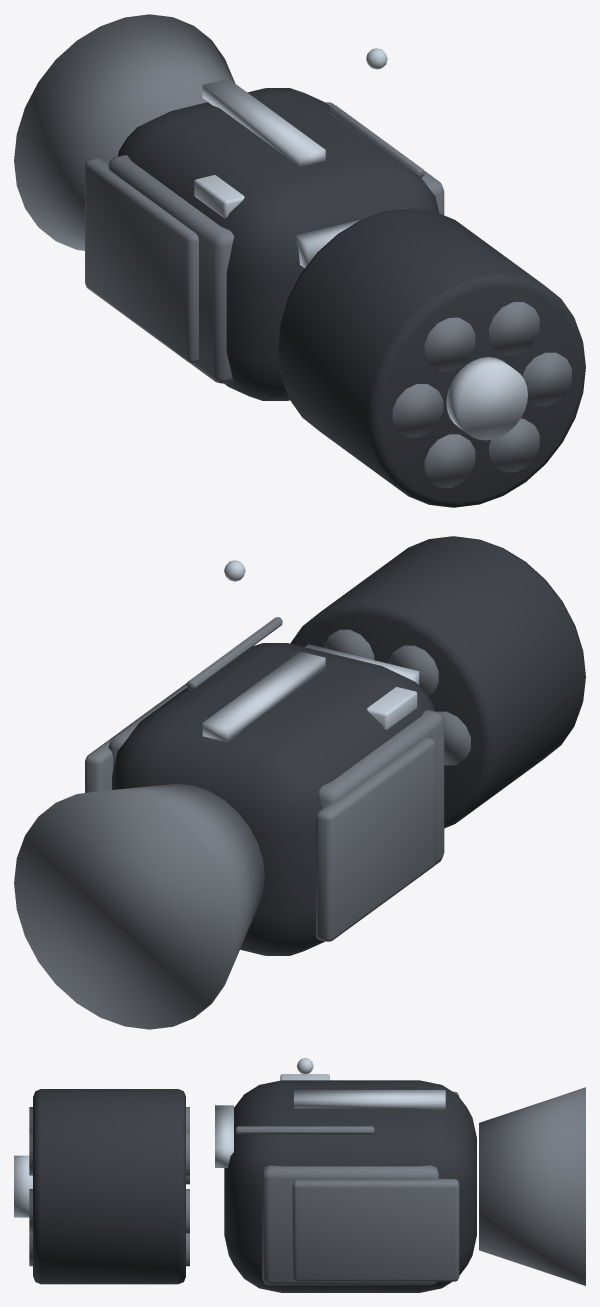
File: weapon_drone_minelayer.glb
3 renders of one model, top to bottom at view 1: azimuth 30°, elevation 25°; view 2: azimuth 150°, elevation 25°; view 3: azimuth 270°, elevation 25°, orthographic. The views are drawn at different scales.
Visible parts, largest first — view 1: weapon_drone_minelayer; view 2: weapon_drone_minelayer; view 3: weapon_drone_minelayer.
Part boxes in pixels (x1,y1,x2,y2): weapon_drone_minelayer: [14, 14, 585, 507]; weapon_drone_minelayer: [14, 536, 585, 1029]; weapon_drone_minelayer: [14, 1058, 585, 1292].
Size of the model in its own units: 0.5808 by 0.7068 by 1.5.
